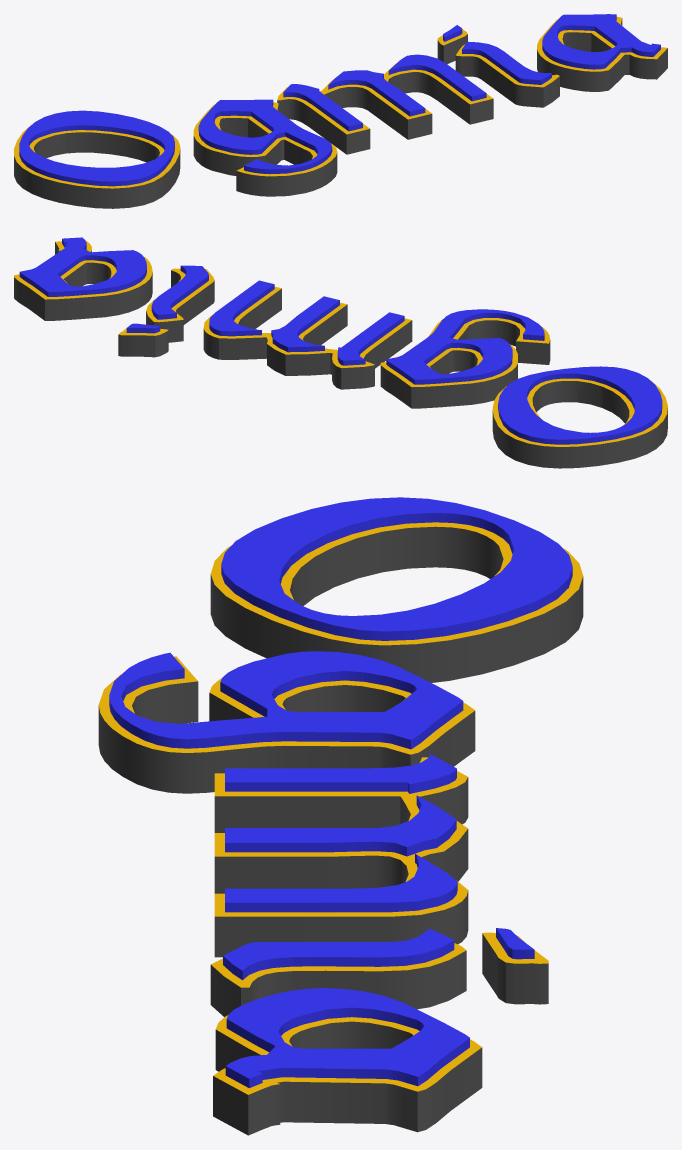
The model's file is Ogmia.fbx.
3 views of the same model, one above another, from view 1: azimuth 30°, elevation 25°; view 2: azimuth 150°, elevation 25°; view 3: azimuth 270°, elevation 25° (orthographic). The views are drawn at different scales.
Parts seen in each view (by area): view 1: Model; view 2: Model; view 3: Model.
Part boxes in pixels (<box>): Model: <box>14,14,667,208</box>; Model: <box>14,237,667,468</box>; Model: <box>98,497,583,1135</box>.
Size of the model in its own units: 0.9388 by 0.037 by 0.3244.
